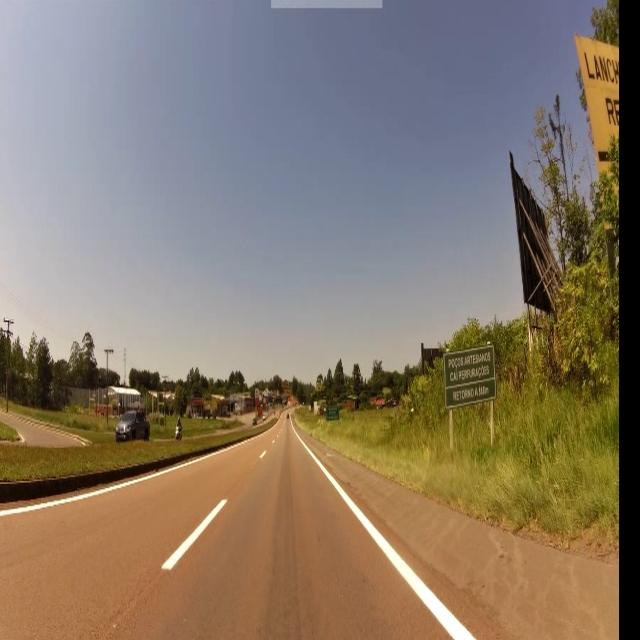I-4: (444, 349, 497, 398)
